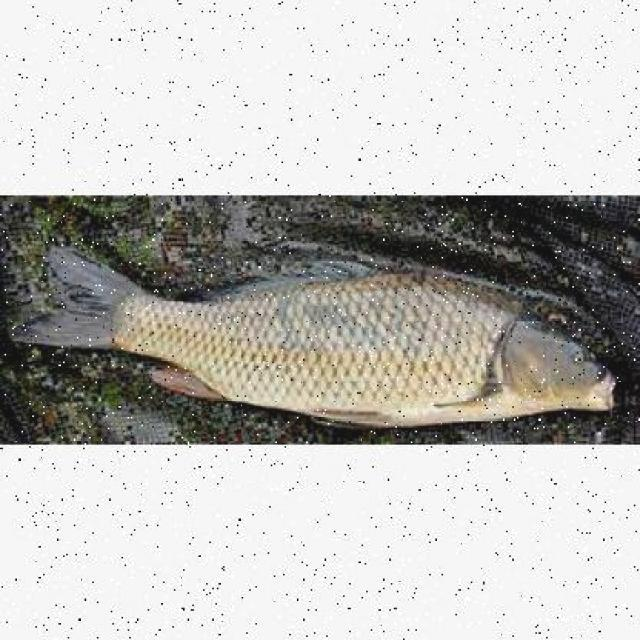ikan-mas: (26, 241, 617, 421)
